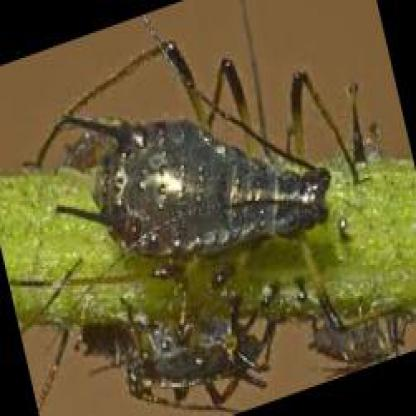uroleucon compositae: (15, 44, 362, 328)
